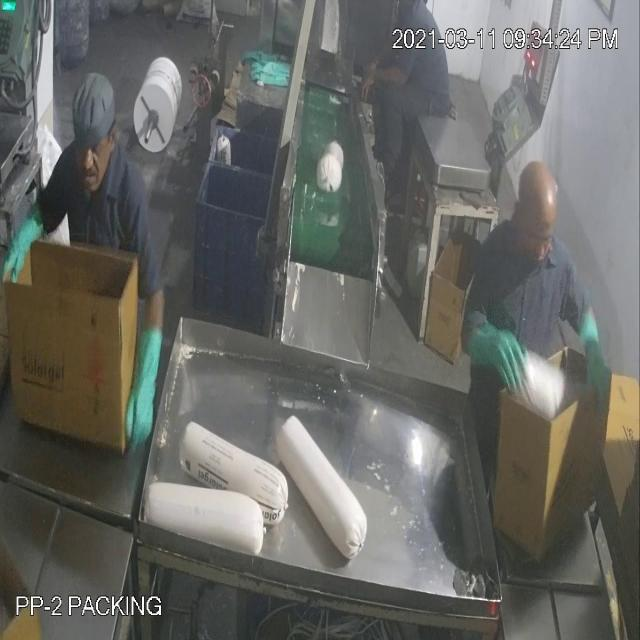No_Gloves: (57, 55, 386, 378)
